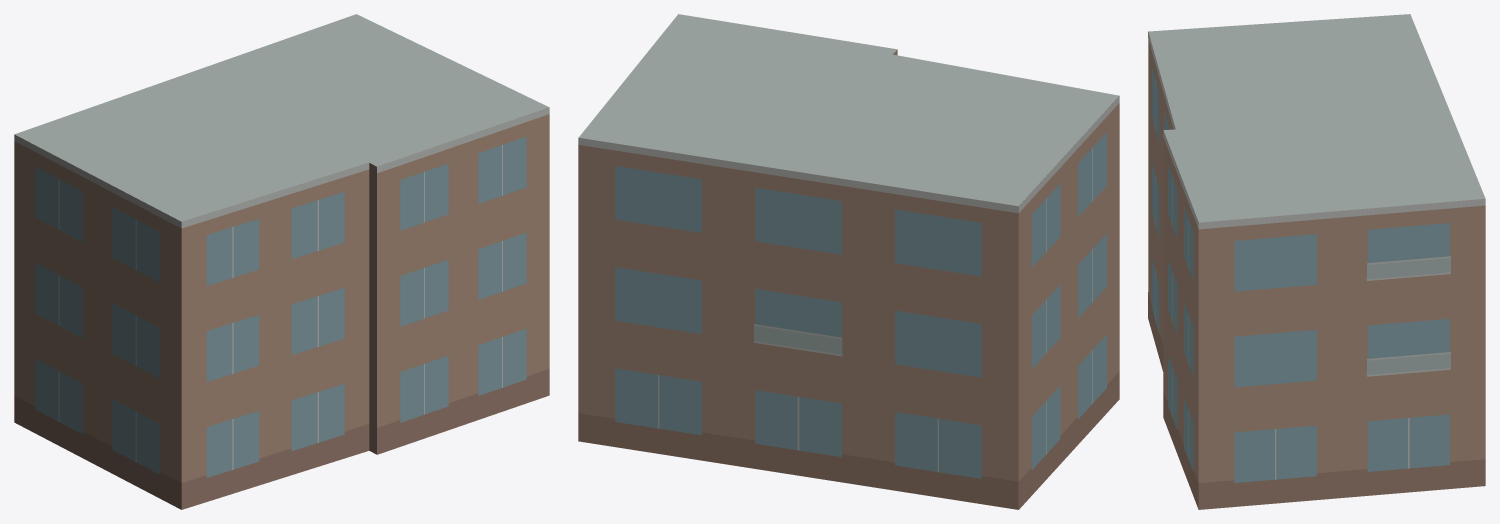
File: survey-upis-33016763.glb
3 views of the same model, side by side, from view 1: azimuth 30°, elevation 25°; view 2: azimuth 150°, elevation 25°; view 3: azimuth 270°, elevation 25° (orthographic). The views are drawn at different scales.
Visible parts, largest first — view 1: survey-upis-33016763.tmp; view 2: survey-upis-33016763.tmp; view 3: survey-upis-33016763.tmp.
Part boxes in pixels (x1,y1,x2,y2): survey-upis-33016763.tmp: (14,14,549,509); survey-upis-33016763.tmp: (578,14,1119,509); survey-upis-33016763.tmp: (1148,14,1485,509).
Size of the model in its own units: 16.38 by 10.5 by 11.19.
